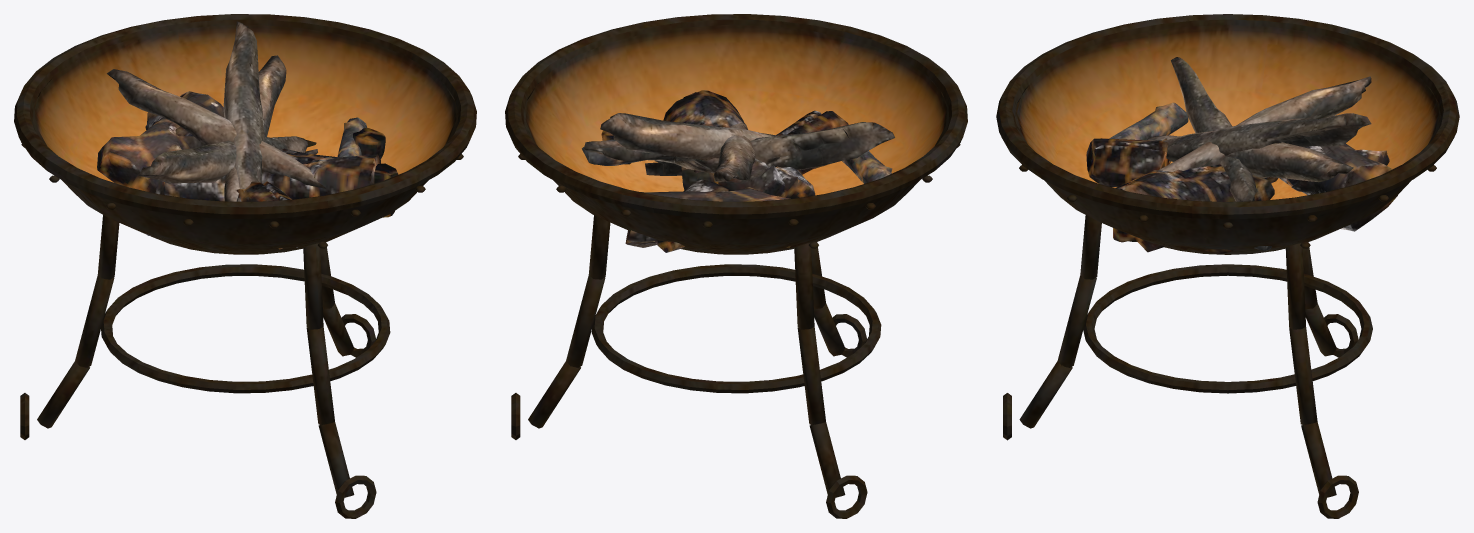
Rendered from foguera_P2_brasero.glb.
3 renders of one model, left to right at view 1: azimuth 30°, elevation 25°; view 2: azimuth 150°, elevation 25°; view 3: azimuth 270°, elevation 25°, orthographic.
Parts seen in each view (by area): view 1: foguera_P2_brasero; view 2: foguera_P2_brasero; view 3: foguera_P2_brasero.
Part boxes in pixels (<box>): foguera_P2_brasero: <box>14,14,476,518</box>; foguera_P2_brasero: <box>505,14,967,518</box>; foguera_P2_brasero: <box>996,14,1459,518</box>.
Bounding box in the file's own units: 1.2 × 1.01 × 1.2.
1 material, 1 textured.
